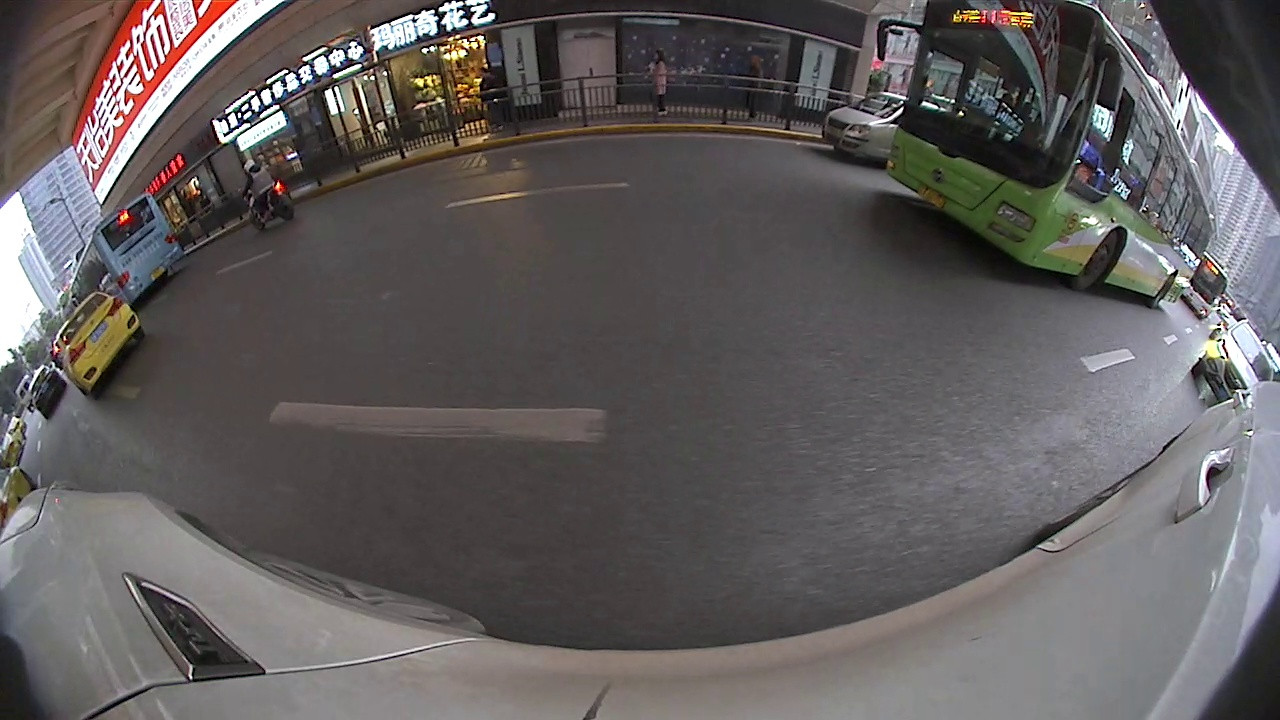bus: (888, 1, 1211, 310), (68, 187, 181, 323)
car: (51, 288, 146, 400), (1190, 318, 1277, 419), (821, 91, 912, 169), (23, 362, 69, 421)
front: (1072, 226, 1122, 292)
rider: (242, 153, 292, 230)
